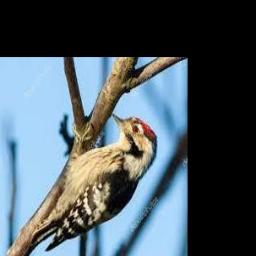Woodpecker: (30, 113, 157, 251)
